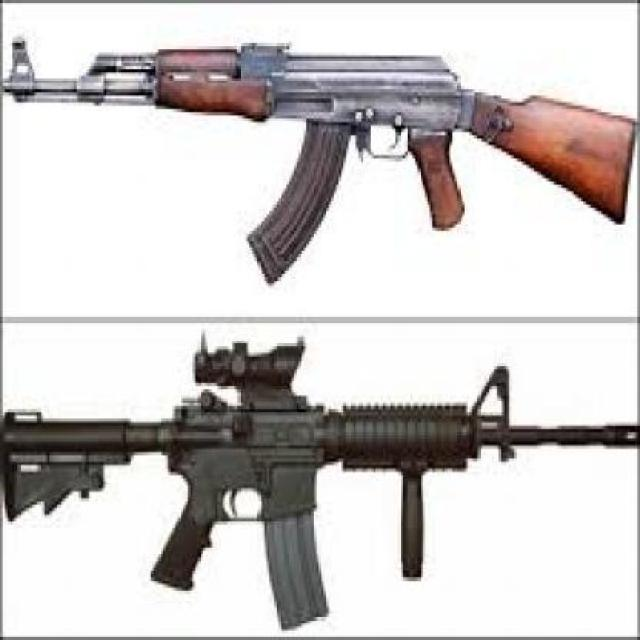weapon: (4, 324, 639, 629), (3, 25, 636, 317)
